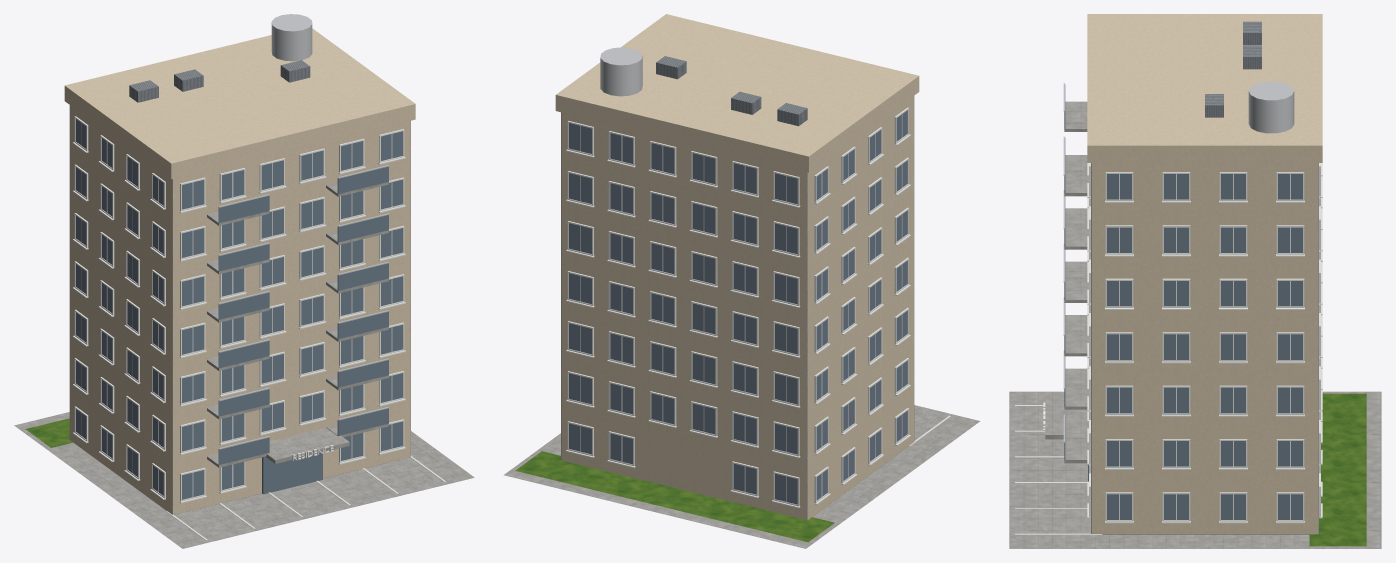
Rendered from apartment_2.gltf.
The picture shows the model from 3 angles, left to right: view 1: azimuth 30°, elevation 25°; view 2: azimuth 150°, elevation 25°; view 3: azimuth 270°, elevation 25°; orthographic projection. The views are drawn at different scales.
Parts seen in each view (by area): view 1: apartment_2; view 2: apartment_2; view 3: apartment_2.
Part boxes in pixels (bbox=[...]): apartment_2: bbox=[14, 14, 474, 548]; apartment_2: bbox=[503, 14, 980, 548]; apartment_2: bbox=[1009, 14, 1381, 548].
Bounding box in the file's own units: 3.92 × 4.92 × 3.92.
Materials: 8 (4 with a texture image).
